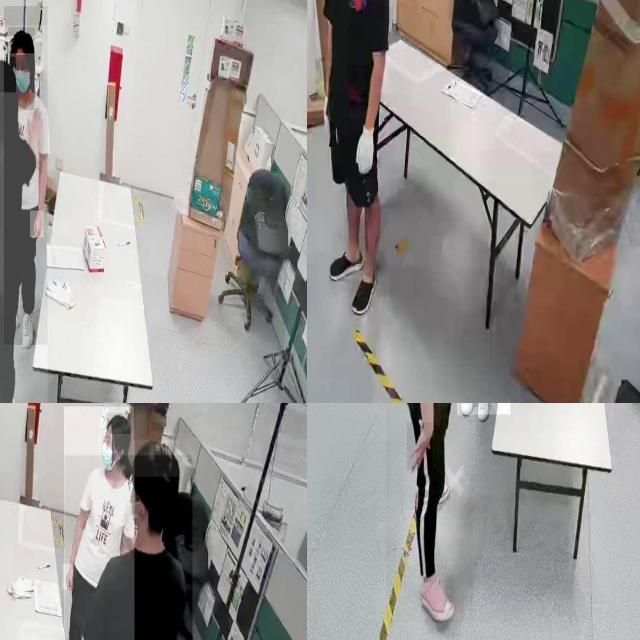face_mask: (12, 55, 34, 110), (98, 430, 114, 474)
hand_glove: (354, 120, 380, 182)
hand_noglove: (407, 422, 433, 472), (30, 211, 44, 238), (62, 564, 74, 590)
head_nohelmet: (133, 440, 180, 478), (9, 28, 35, 54), (0, 56, 16, 93), (107, 413, 131, 435)
person: (64, 455, 193, 640), (316, 0, 391, 315), (386, 403, 473, 623), (0, 25, 47, 403), (63, 406, 134, 640), (4, 6, 48, 345)
shoes: (417, 572, 453, 628), (349, 266, 380, 324), (327, 244, 364, 282), (0, 381, 22, 403), (457, 403, 478, 420), (474, 403, 491, 423)
